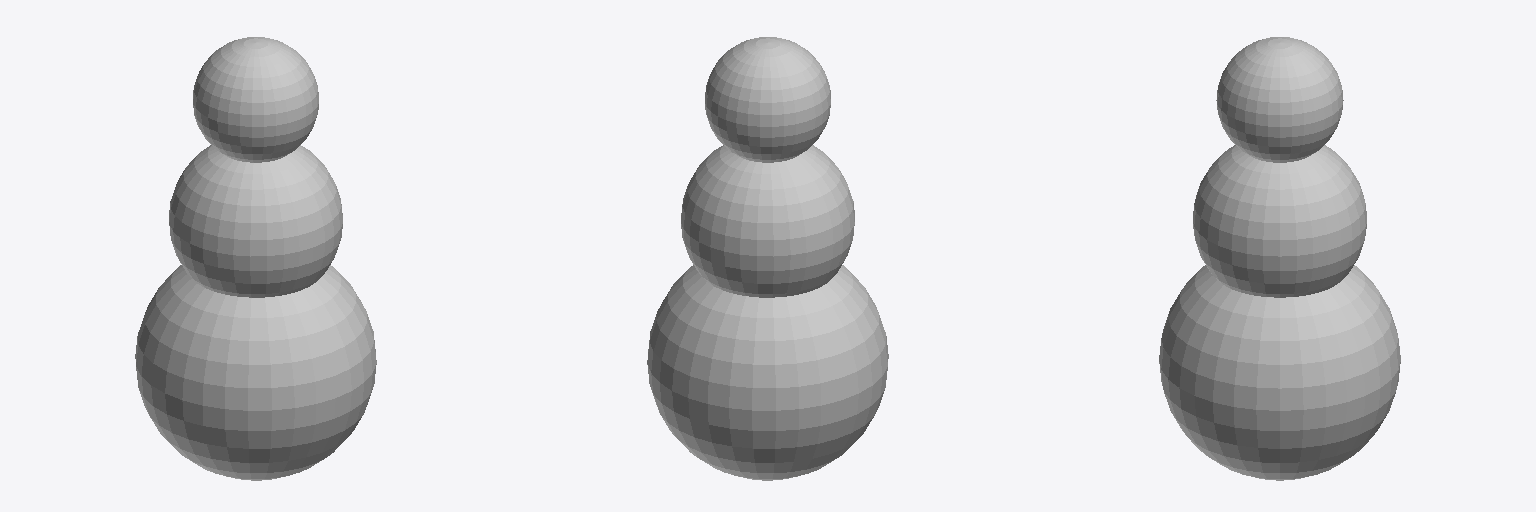
File: UVSnowman.obj
3 views of the same model, side by side, from view 1: azimuth 30°, elevation 25°; view 2: azimuth 150°, elevation 25°; view 3: azimuth 270°, elevation 25° (orthographic).
Parts seen in each view (by area): view 1: Sphere_Sphere.001; view 2: Sphere_Sphere.001; view 3: Sphere_Sphere.001.
Boxes of the visible parts, x1,y1,x2,y2 form: Sphere_Sphere.001: [135, 37, 376, 480]; Sphere_Sphere.001: [647, 37, 888, 480]; Sphere_Sphere.001: [1159, 37, 1400, 480].
Size of the model in its own units: 2 by 3.89 by 2.